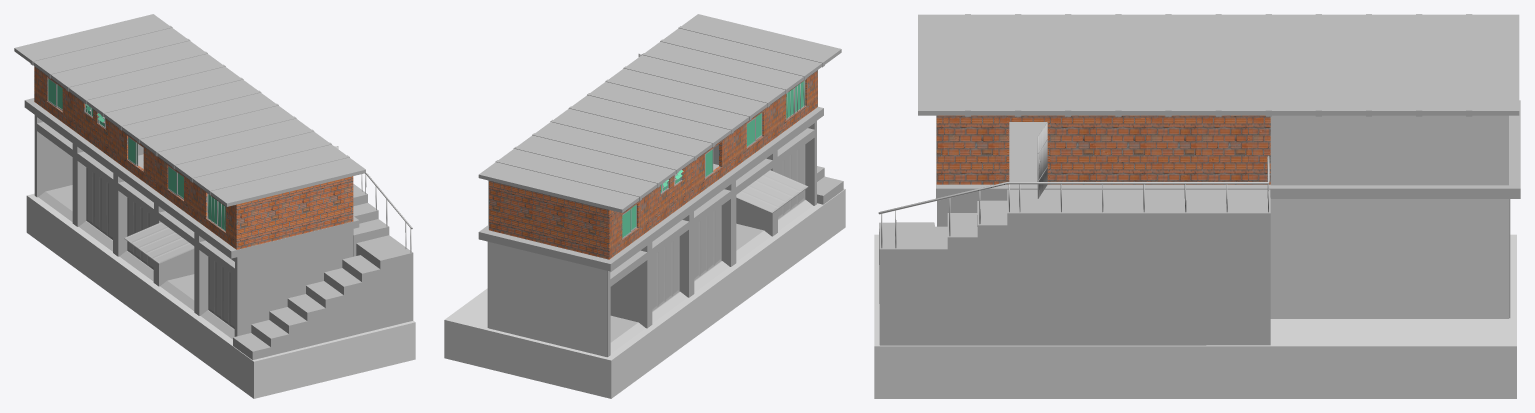
Rendered from CASA 32.fbx.
The picture shows the model from 3 angles, left to right: view 1: azimuth 30°, elevation 25°; view 2: azimuth 150°, elevation 25°; view 3: azimuth 270°, elevation 25°; orthographic projection. The views are drawn at different scales.
Visible parts, largest first — view 1: CASA32_LOD0, Cube_LOD0, UTM_CASA32; view 2: CASA32_LOD0, Cube_LOD0, OCC_Oclusion1, UTM_CASA32; view 3: CASA32_LOD0, OCC_Oclusion2, Cube_LOD0.
Boxes of the visible parts, x1,y1,x2,y2 form: CASA32_LOD0: [14, 14, 413, 359]; Cube_LOD0: [26, 193, 415, 398]; UTM_CASA32: [48, 79, 225, 230]; CASA32_LOD0: [478, 14, 843, 356]; Cube_LOD0: [444, 188, 845, 398]; OCC_Oclusion1: [488, 242, 607, 356]; UTM_CASA32: [622, 81, 804, 237]; CASA32_LOD0: [878, 14, 1520, 345]; OCC_Oclusion2: [1270, 115, 1508, 318]; Cube_LOD0: [874, 234, 1516, 398].
Size of what is drawn, in the model's own units: 1074 by 1006 by 2223.
